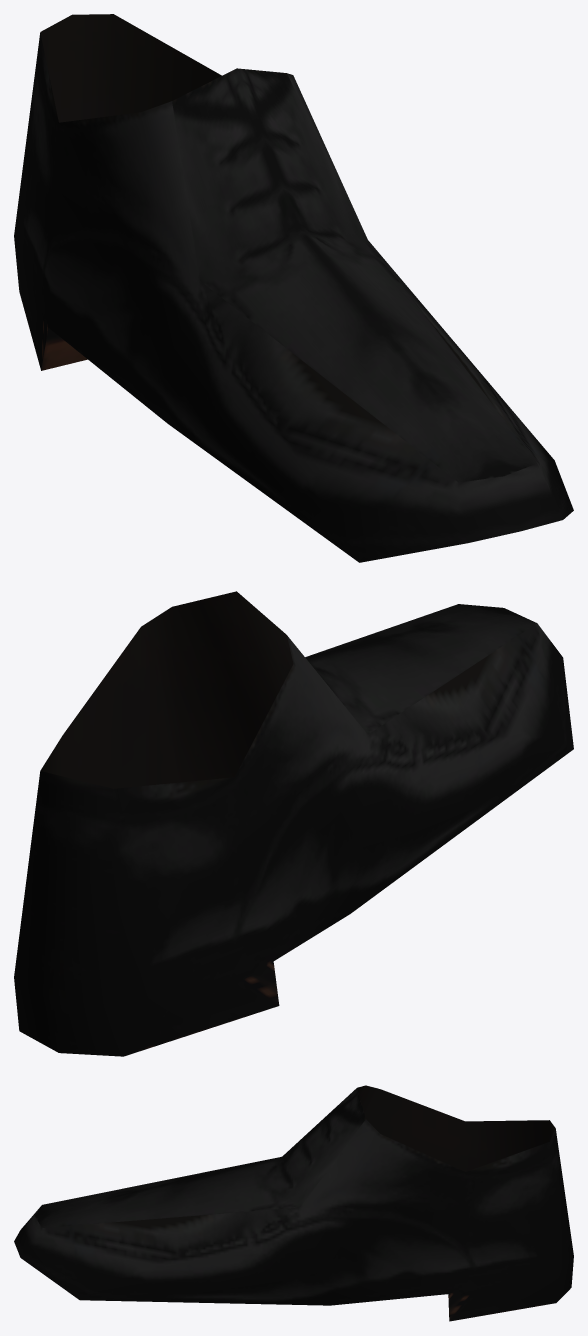
Rendered from p6_shoe_single_02_lod1.glb.
The picture shows the model from 3 angles, top to bottom: view 1: azimuth 30°, elevation 25°; view 2: azimuth 150°, elevation 25°; view 3: azimuth 270°, elevation 25°; orthographic projection. The views are drawn at different scales.
Visible parts, largest first — view 1: surf0; view 2: surf0; view 3: surf0.
Boxes of the visible parts, box(x1,y1,x2,y2) form: surf0: box(14, 14, 573, 562); surf0: box(14, 591, 573, 1056); surf0: box(14, 1085, 573, 1321).
Size of the model in its own units: 3.81 by 5.07 by 12.87.
